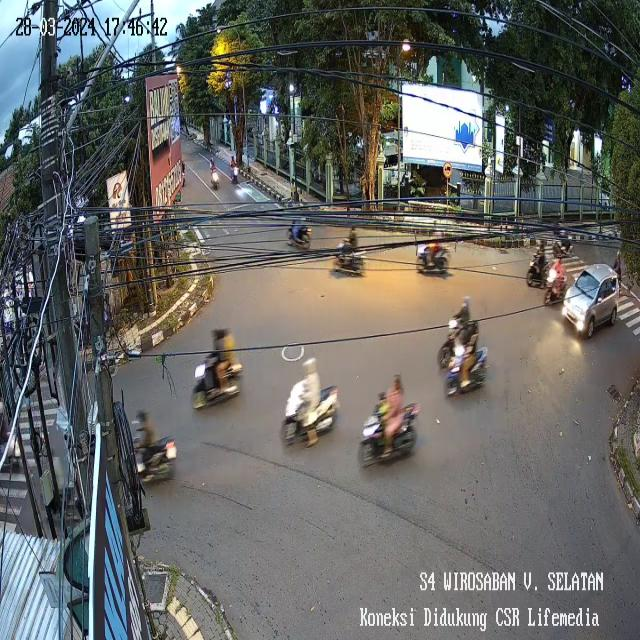car: (562, 258, 624, 348)
motorcycle: (359, 373, 421, 472), (278, 361, 339, 458), (125, 413, 182, 492), (189, 342, 248, 414), (436, 295, 479, 371), (446, 338, 495, 404), (332, 222, 367, 282), (414, 227, 453, 280), (284, 203, 314, 259), (524, 238, 552, 291), (542, 259, 570, 311), (551, 215, 573, 263), (207, 156, 223, 199), (229, 154, 242, 193)
